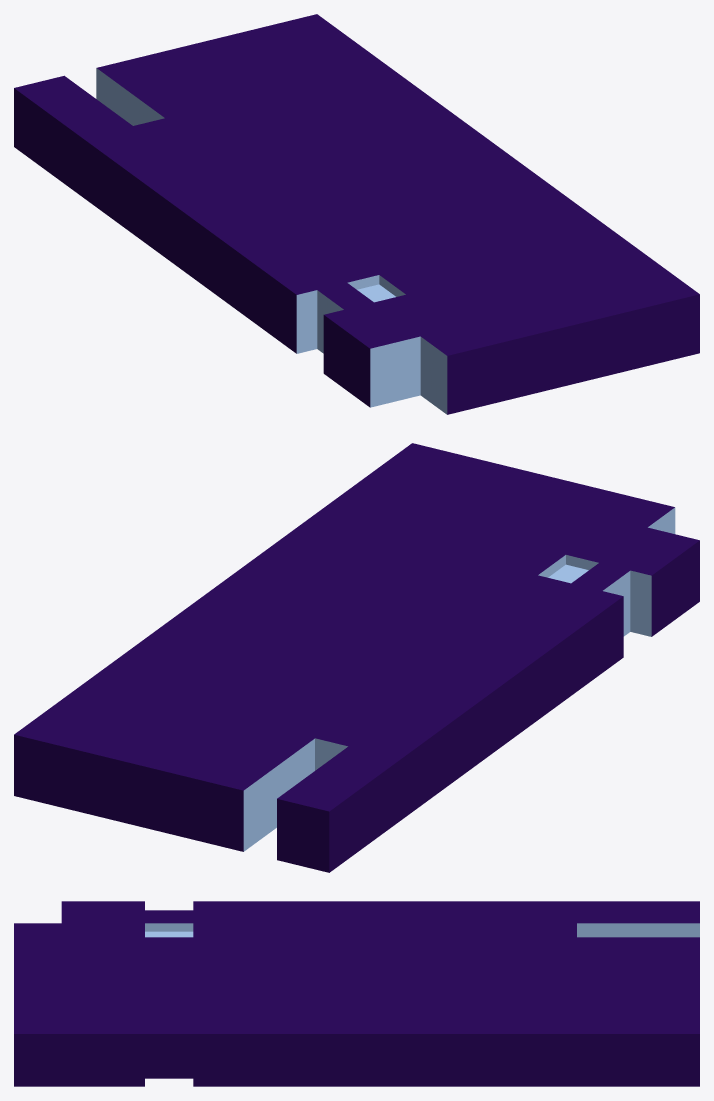
The model's file is Platform11.fbx.
The picture shows the model from 3 angles, top to bottom: view 1: azimuth 30°, elevation 25°; view 2: azimuth 150°, elevation 25°; view 3: azimuth 270°, elevation 25°; orthographic projection. The views are drawn at different scales.
Visible parts, largest first — view 1: Box075; view 2: Box075; view 3: Box075.
Part boxes in pixels (box(x1,y1,x2,y2)): Box075: box(14, 14, 699, 414); Box075: box(14, 443, 699, 872); Box075: box(14, 901, 699, 1086).
Size of the model in its own units: 82 by 15.24 by 179.
